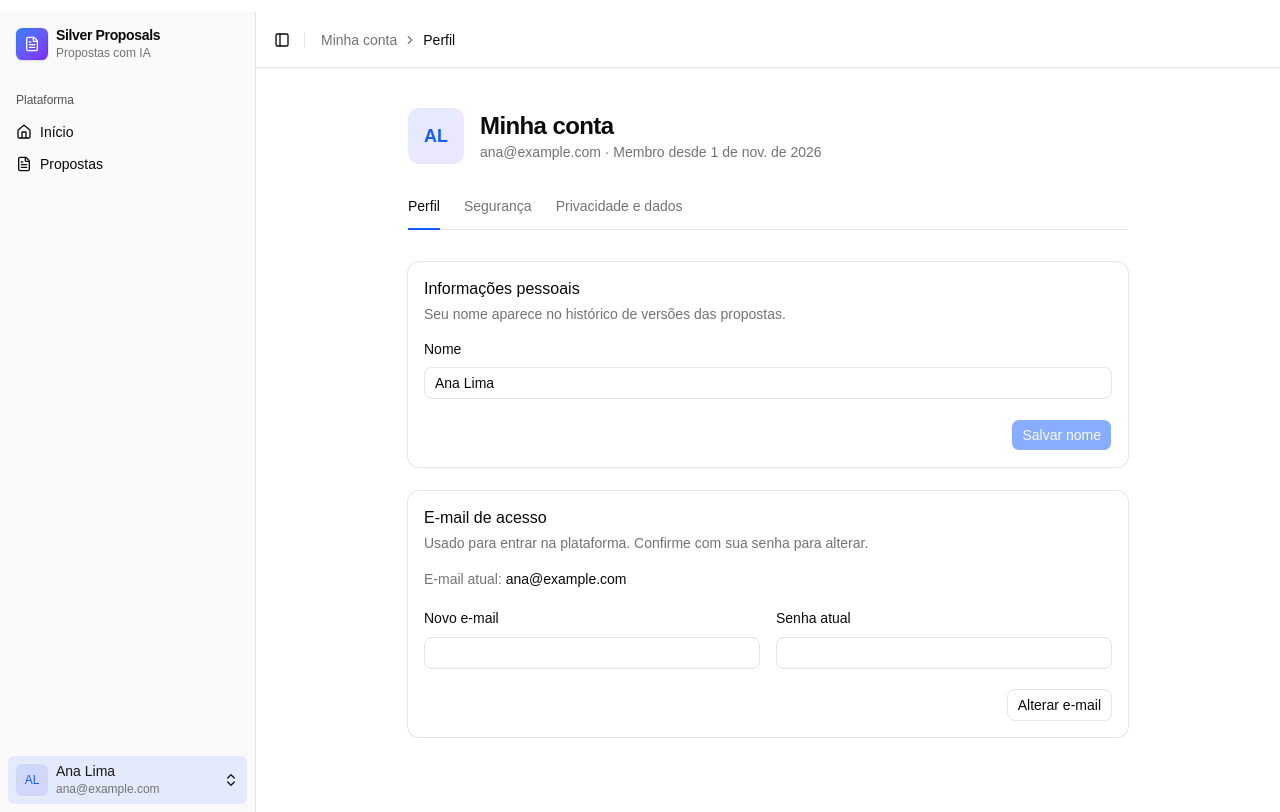
Scenario: ProfilePage › shows a wrong password returned by the API
The width and height of the screenshot is (1280, 812).
Step 1. Type "nova@example.com" into the field labelled "Novo e-mail" → (592, 652), box [424,636,760,668]
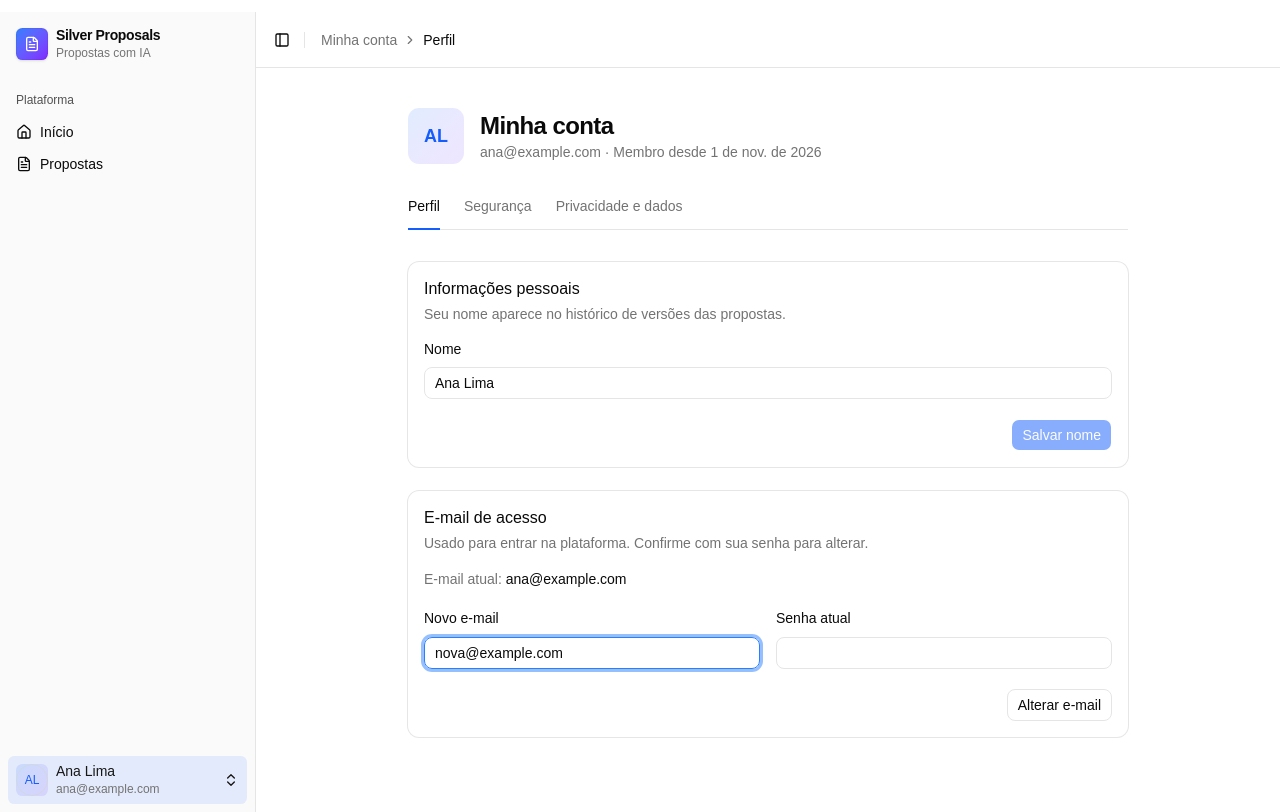
Step 2. Type "errada" into the password field labelled "Senha atual" → (944, 652), box [776,636,1112,668]
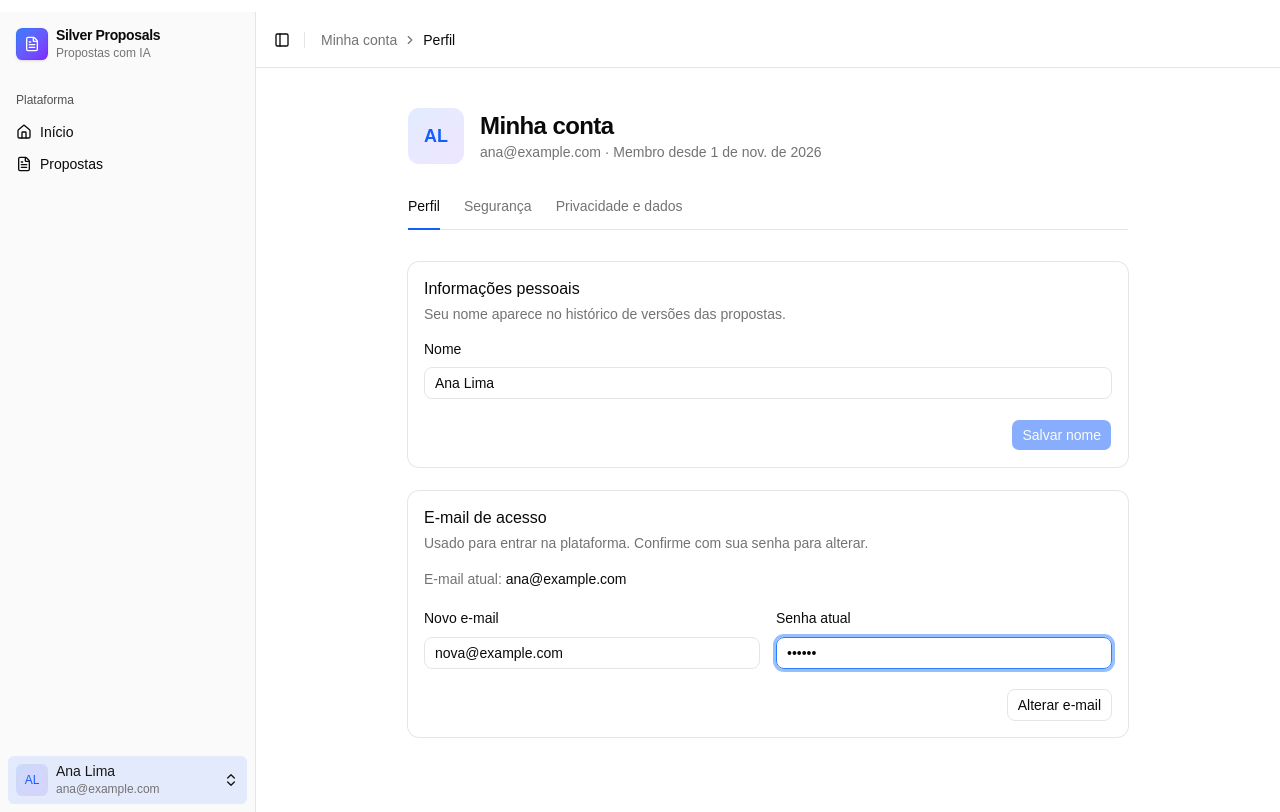
Step 3. Click the button "Alterar e-mail" → (1059, 704), box [1007,688,1112,720]
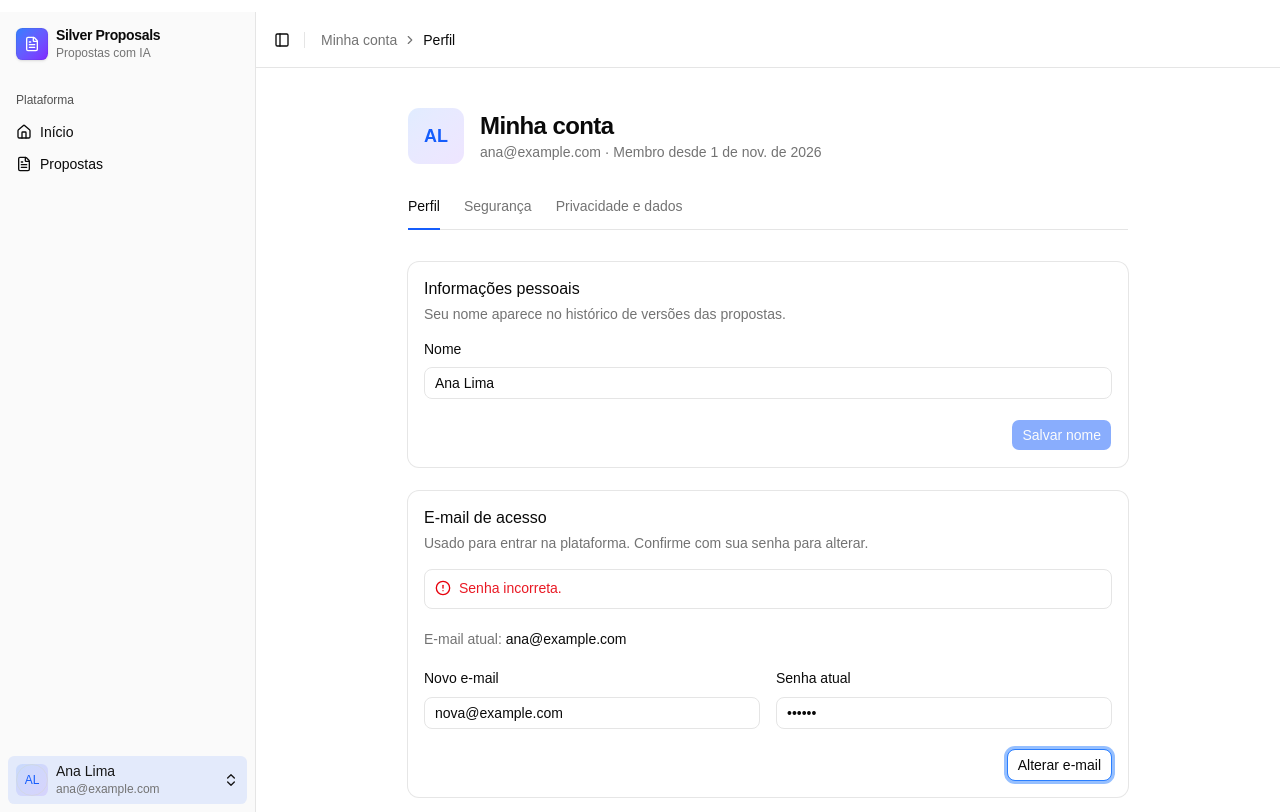
Expected: the text "Senha incorreta." is shown, [459,580,562,596]
